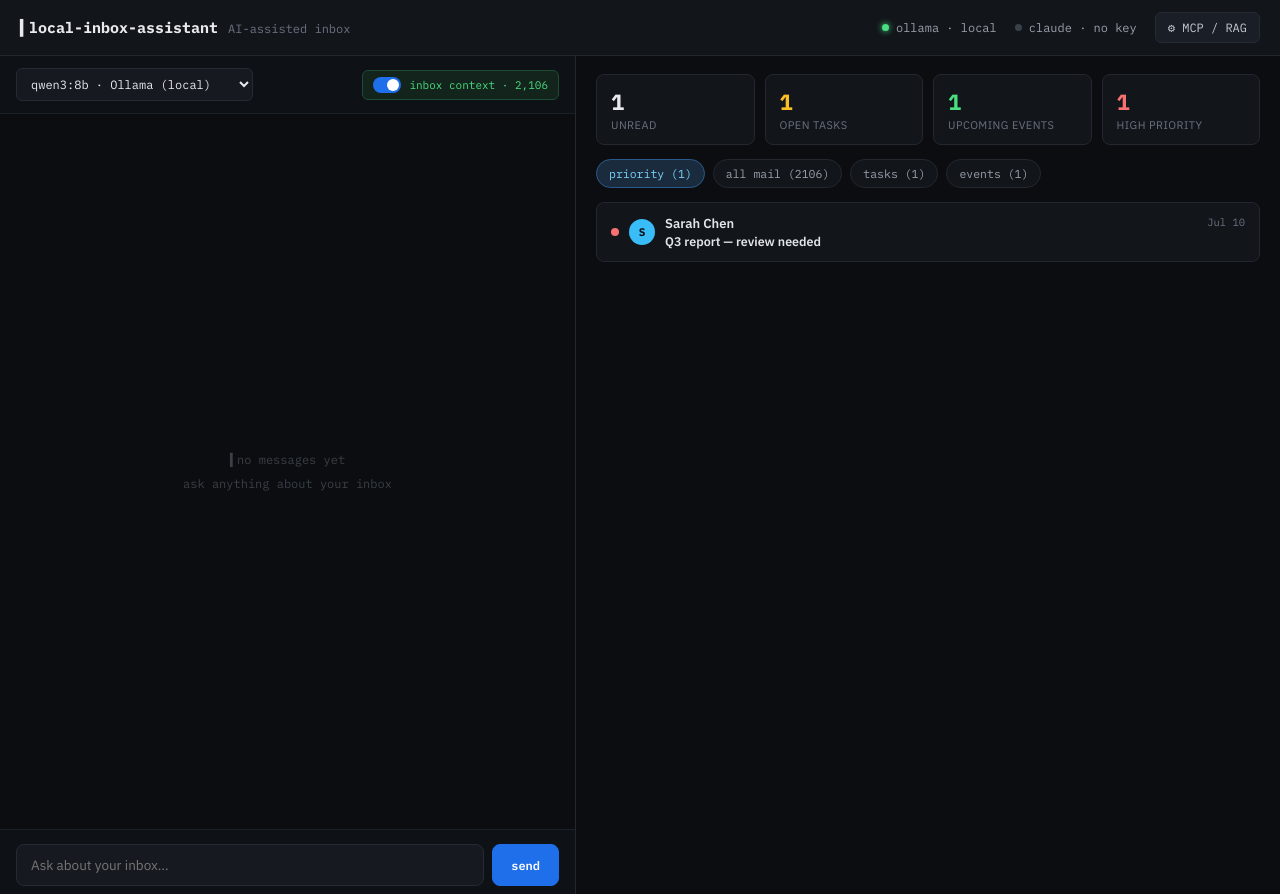
Test: App › saves my priorities and offers a re-parse
Expected: the text "Sarah Chen" is shown, [665,215,734,232]
Click the button "⚙ MCP / RAG".
click(1207, 28)  # box [1155,12,1260,43]
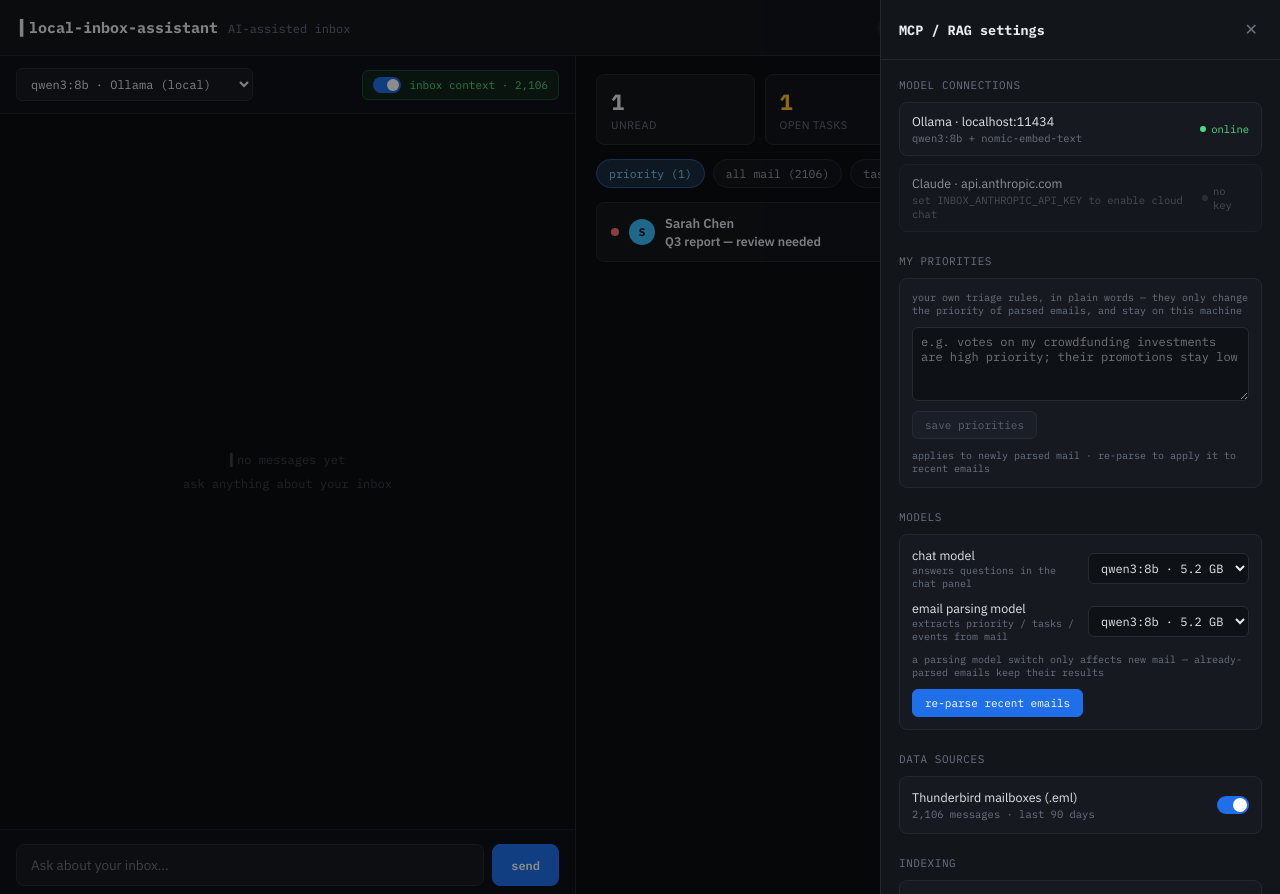
Expected: the button "save priorities" is disabled, [912,411,1037,439]
Expected: the button "re-parse recent emails" is shown, [912,689,1083,717]
Type "club votes are high" into the text box named "my priorities".
click(1080, 364); type("club votes are high")  # box [912,327,1249,401]
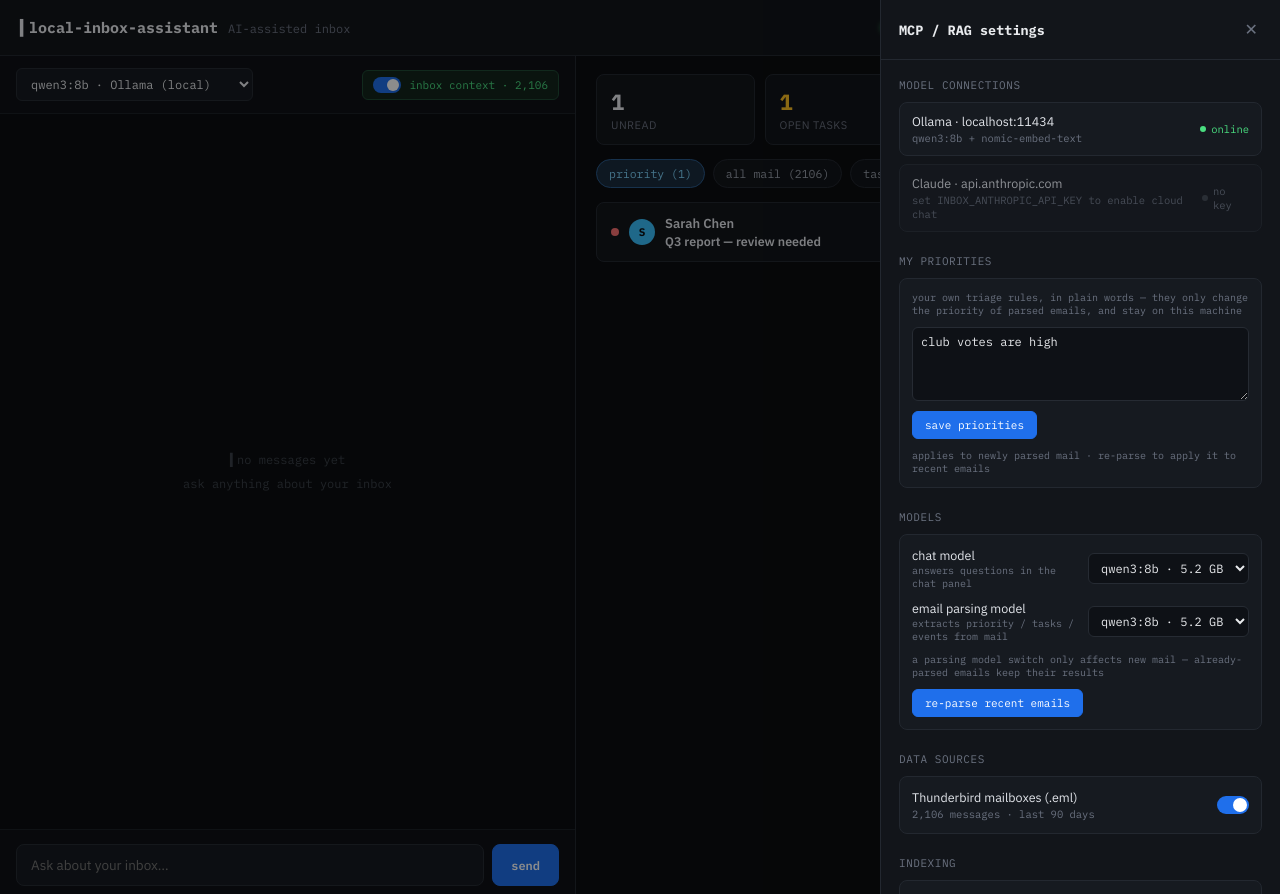
Click the button "save priorities".
click(974, 425)  # box [912,411,1037,439]
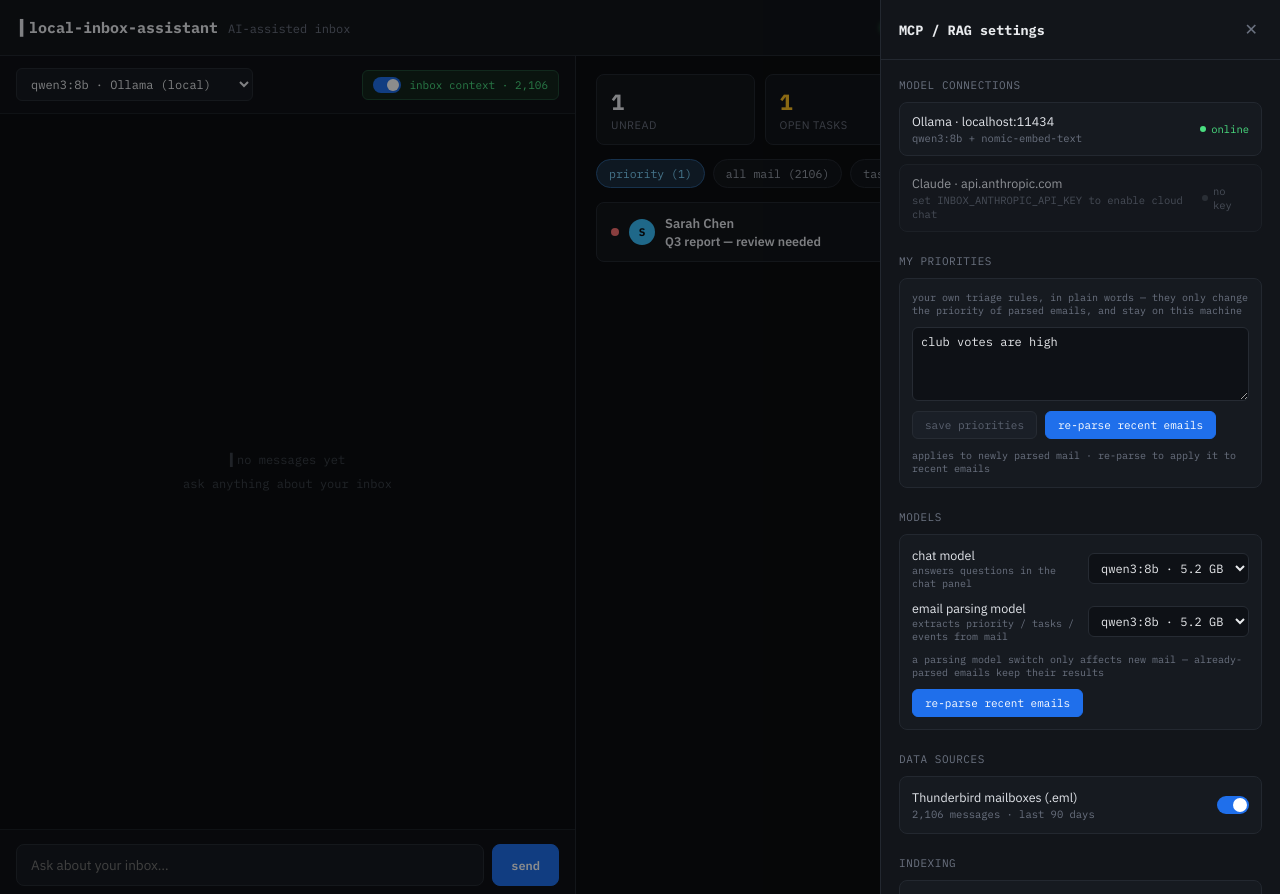
Now the number of buttons "re-parse recent emails" is 2, box [1045,411,1216,439]; [912,689,1083,717]
